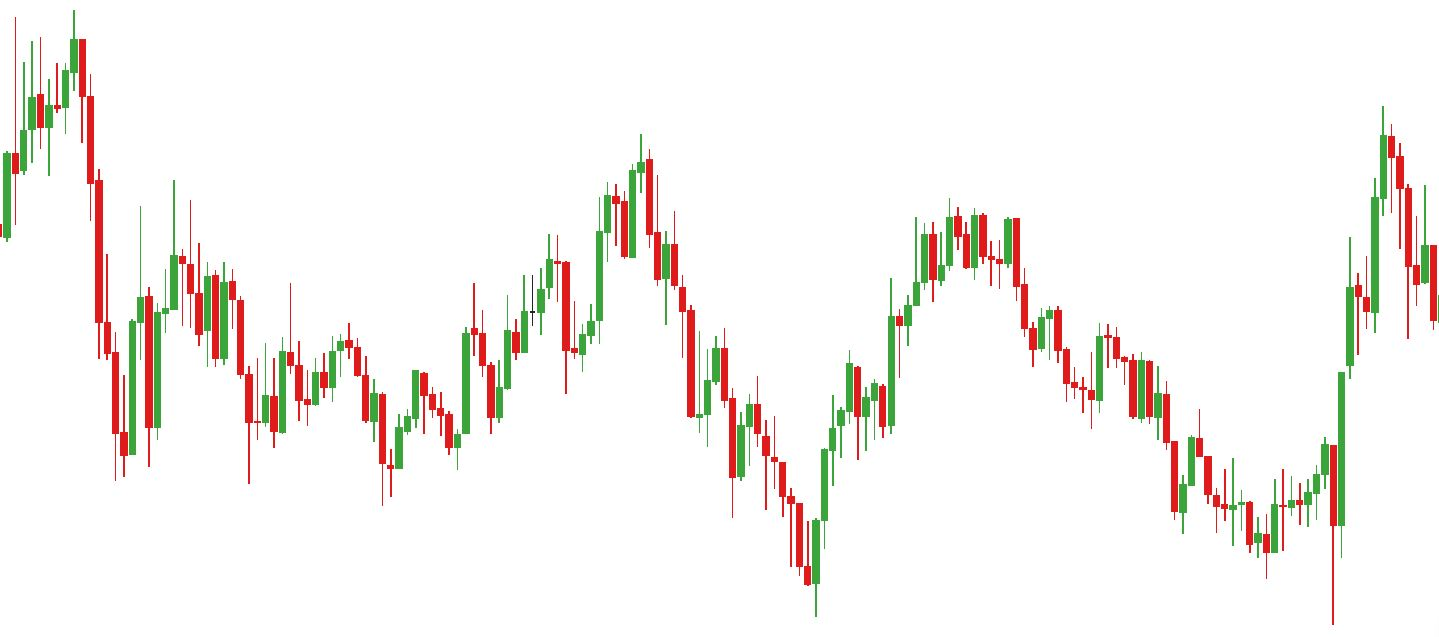buy: (245, 348, 407, 507), (1260, 489, 1349, 627)
